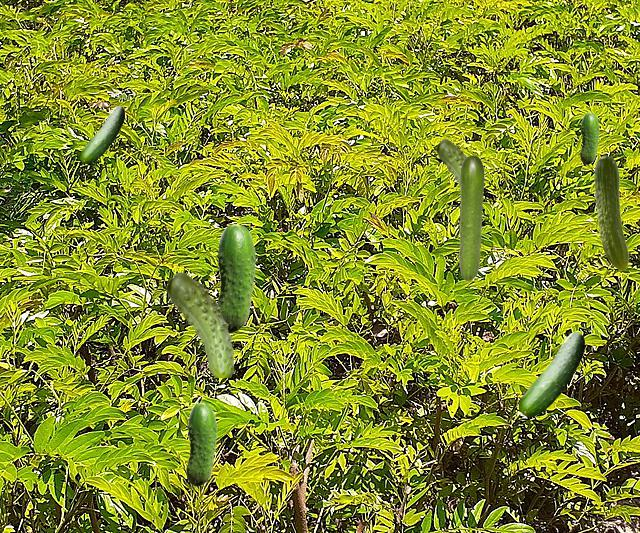cucumber: (166, 272, 234, 376), (519, 332, 583, 415), (215, 223, 255, 332), (594, 155, 628, 270), (459, 155, 483, 280), (186, 402, 216, 485), (80, 106, 123, 162), (436, 139, 466, 185), (580, 112, 598, 163)
